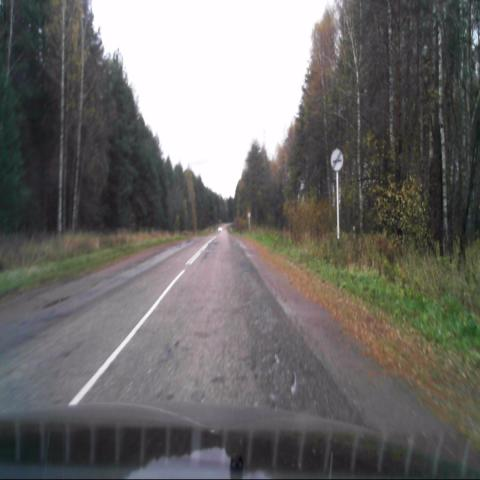3_21: (330, 148, 344, 171)
